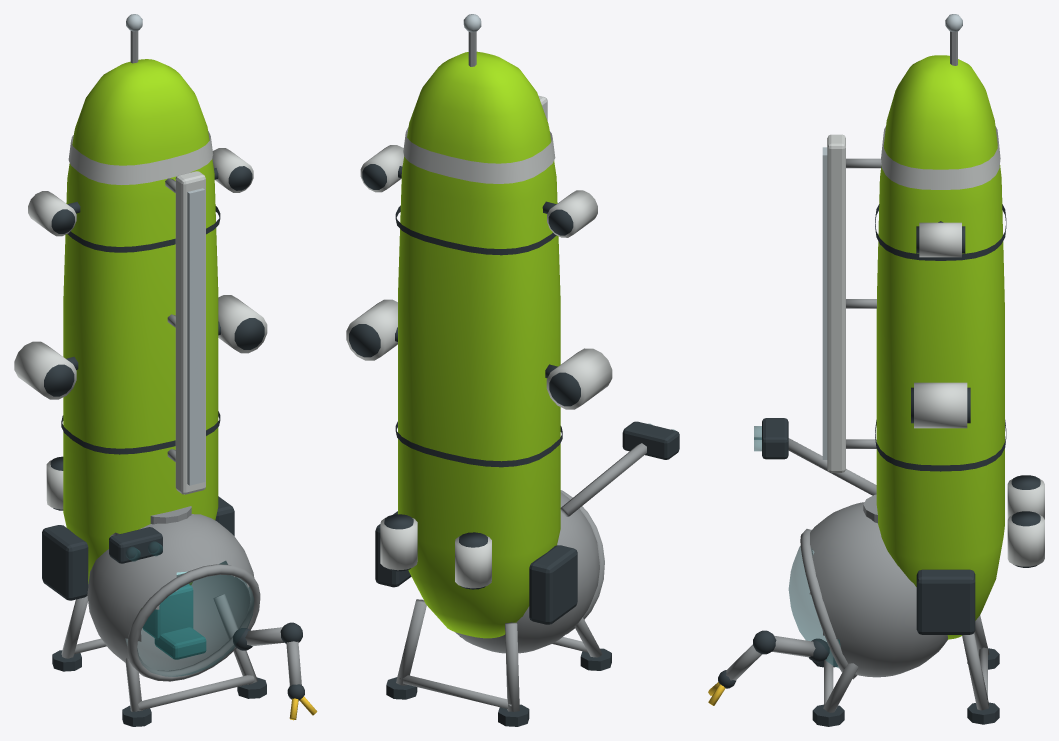
Rendered from challenger.fbx.
3 views of the same model, side by side, from view 1: azimuth 30°, elevation 25°; view 2: azimuth 150°, elevation 25°; view 3: azimuth 270°, elevation 25° (orthographic). The views are drawn at different scales.
Parts seen in each view (by area): view 1: challenger, ANIM_pulse_0.5__lightbar, pilot; view 2: challenger; view 3: challenger, ANIM_pulse_0.5__lightbar.
Part boxes in pixels (x1,y1,x2,y2): challenger: (14,31,317,726); ANIM_pulse_0.5__lightbar: (187,188,205,485); pilot: (143,571,206,659); challenger: (346,32,679,726); challenger: (708,31,1044,726); ANIM_pulse_0.5__lightbar: (822,147,827,459).
Size of the model in its own units: 1.03 by 2.8 by 1.26.
